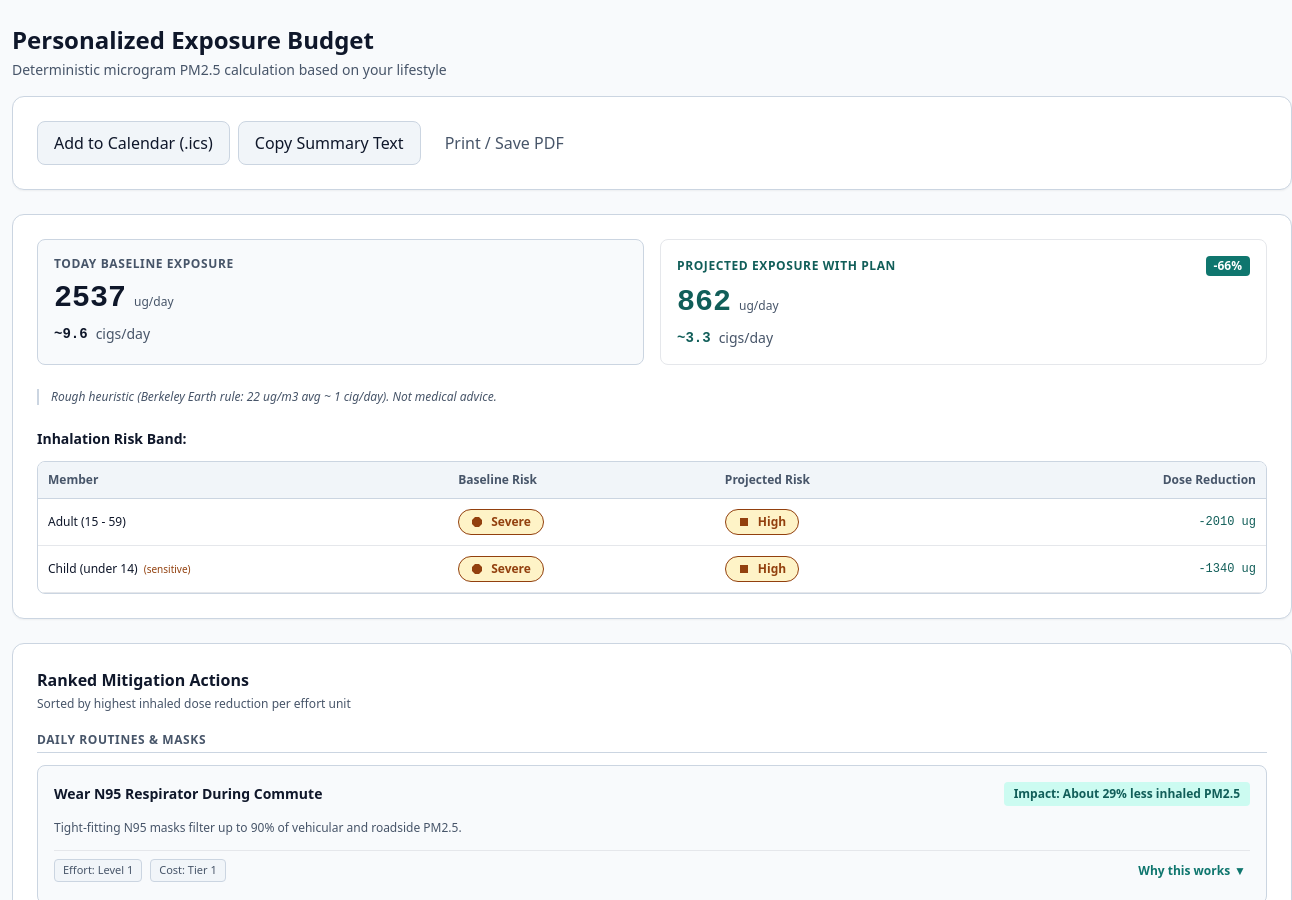
Test: Plan Feature - Viewmodel & PlanPanel UI › toggles accessible "Why this works" expansion state when clicked
The image size is (1292, 900).
Click the button "Why this works ▼".
click(1192, 870)  # box [1134,854,1250,886]
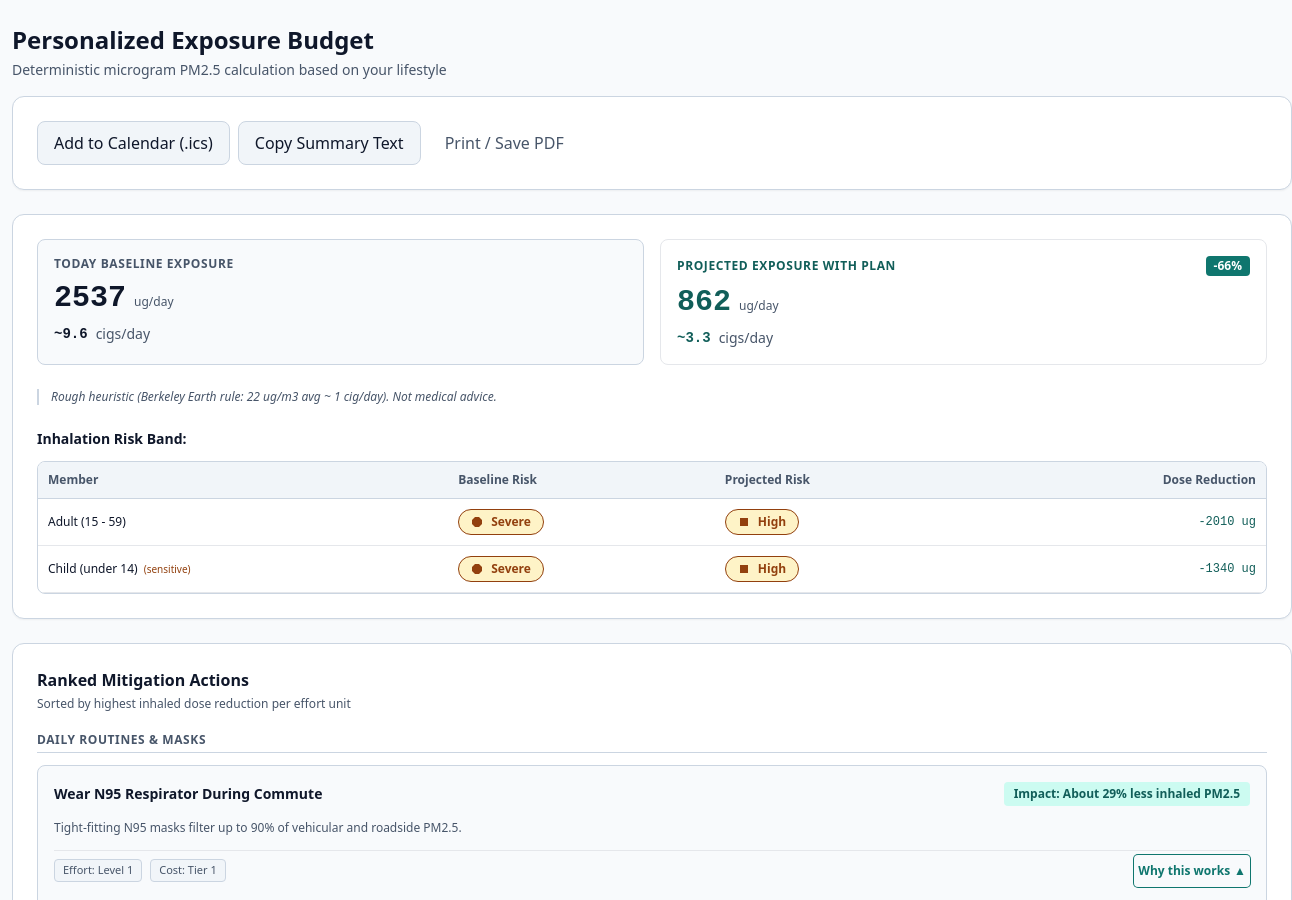
Expected: the button "Why this works ▲" is expanded
Click the button "Why this works ▲".
click(1192, 870)  # box [1134,854,1250,886]
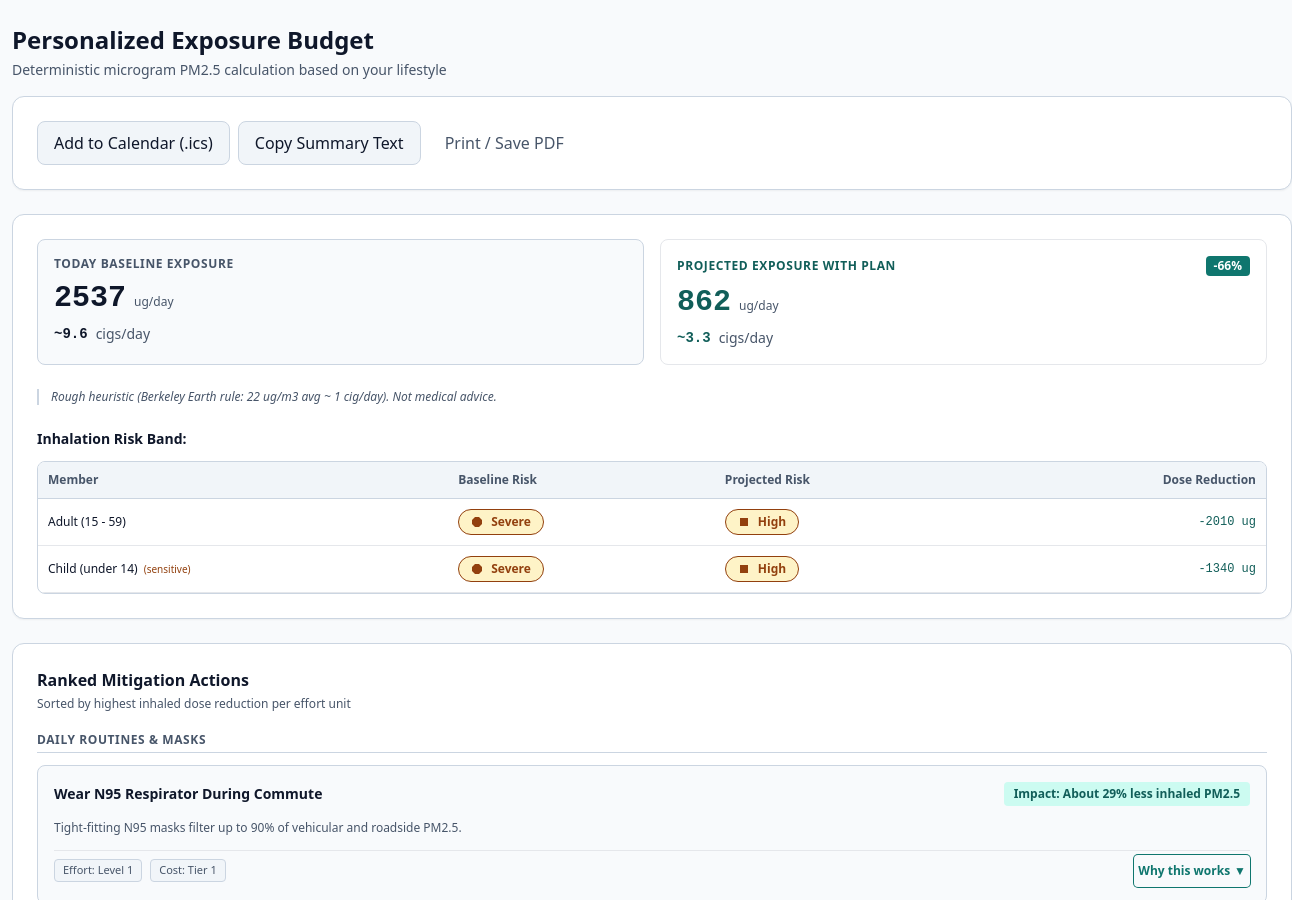
Expected: the button "Why this works ▼" is collapsed, [1134,854,1250,886]
